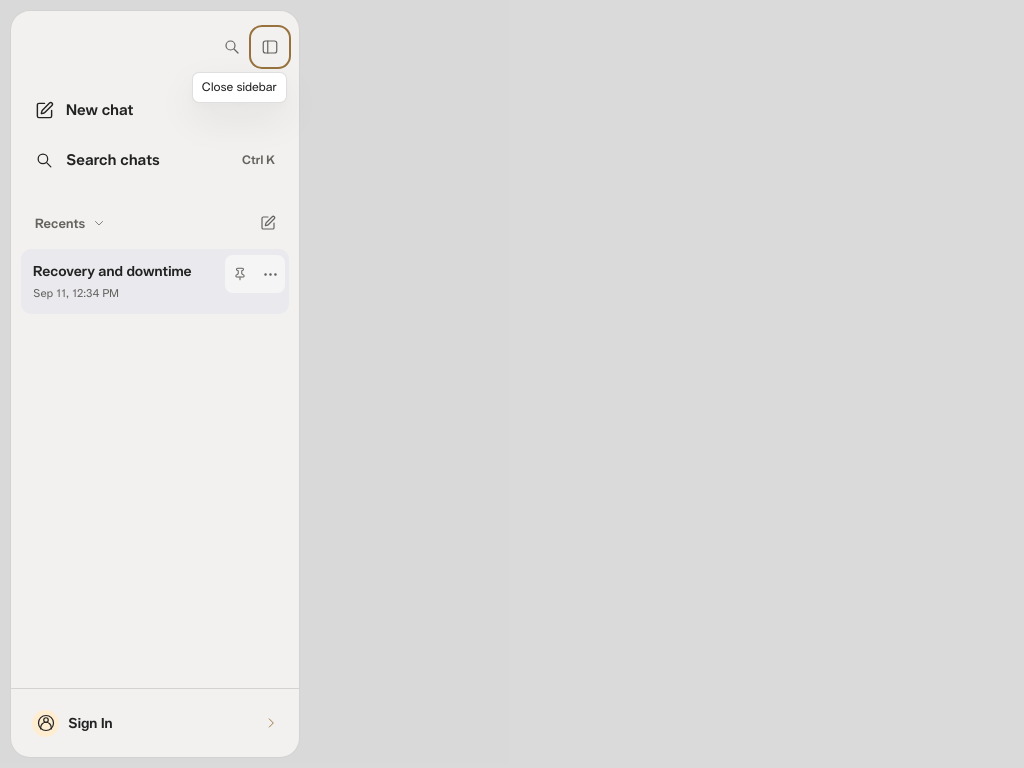
Test: Functional sidebar with HTTP doubles › does not share on menu/dialog opening; explicit creation and revocation are separate
Click the button named "Options for Recovery and downtime".
click(270, 274)  # box left=255, top=255, right=285, bottom=293
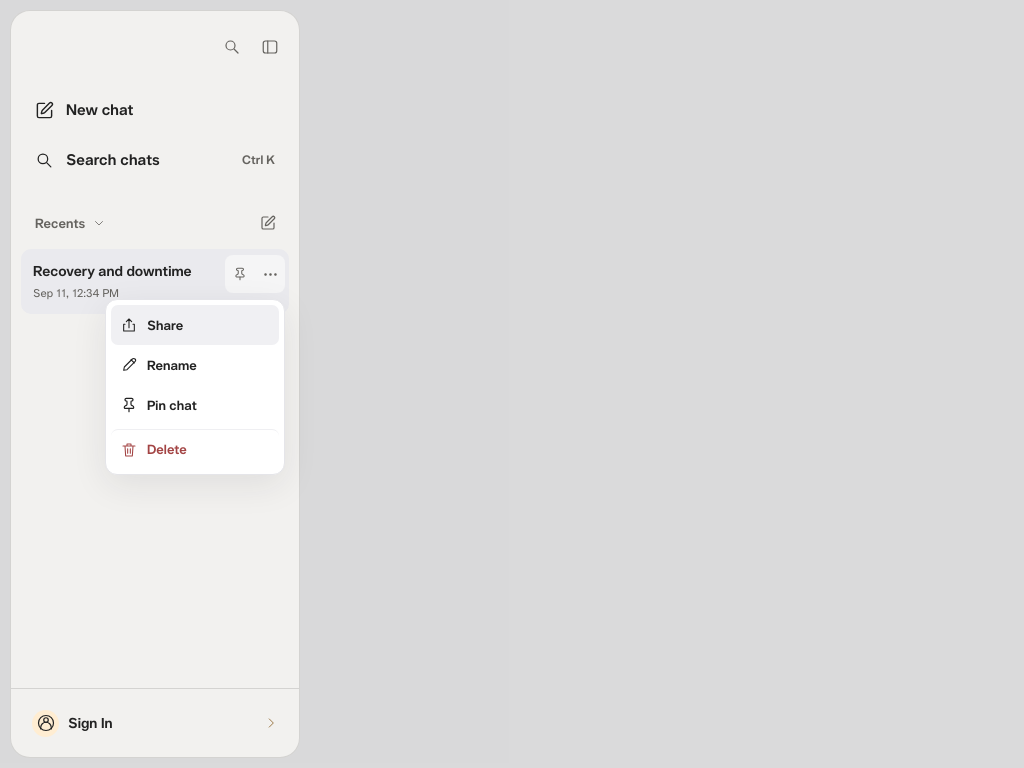
Click the menu item "Share".
click(195, 325)  # box left=111, top=305, right=279, bottom=345
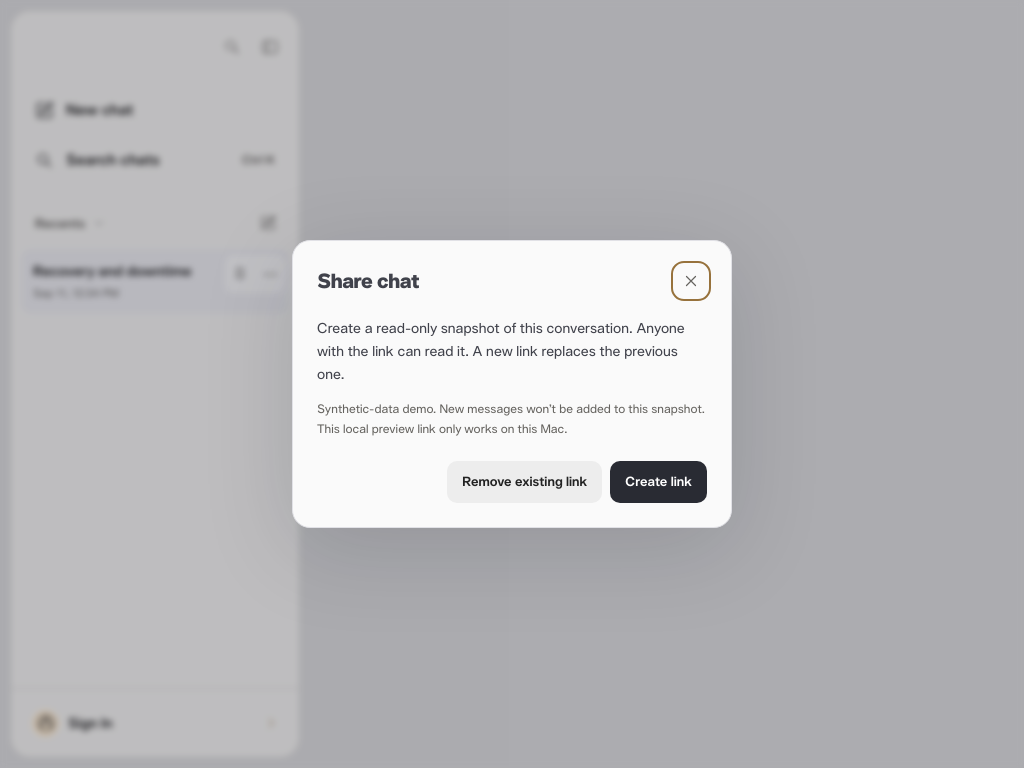
Result: the text "Anyone with the link" is shown at left=317, top=319, right=685, bottom=383
Click the button "Create link".
click(659, 482)  # box left=610, top=461, right=707, bottom=503
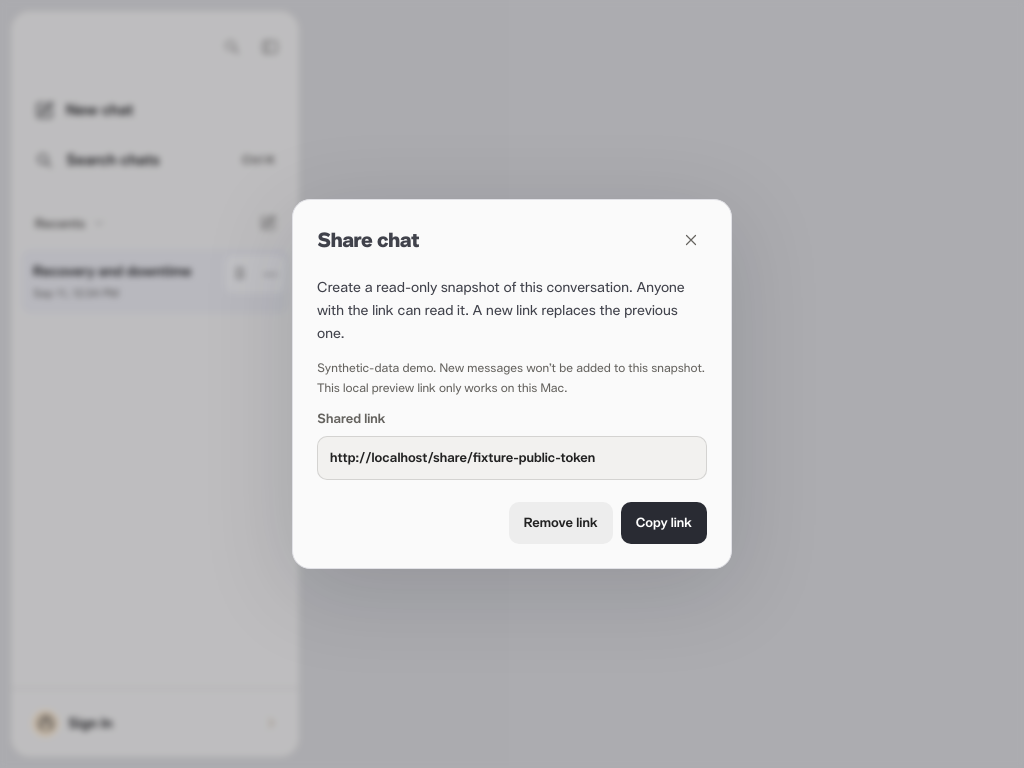
Click the button "Remove link".
click(561, 523)  # box left=509, top=502, right=613, bottom=544
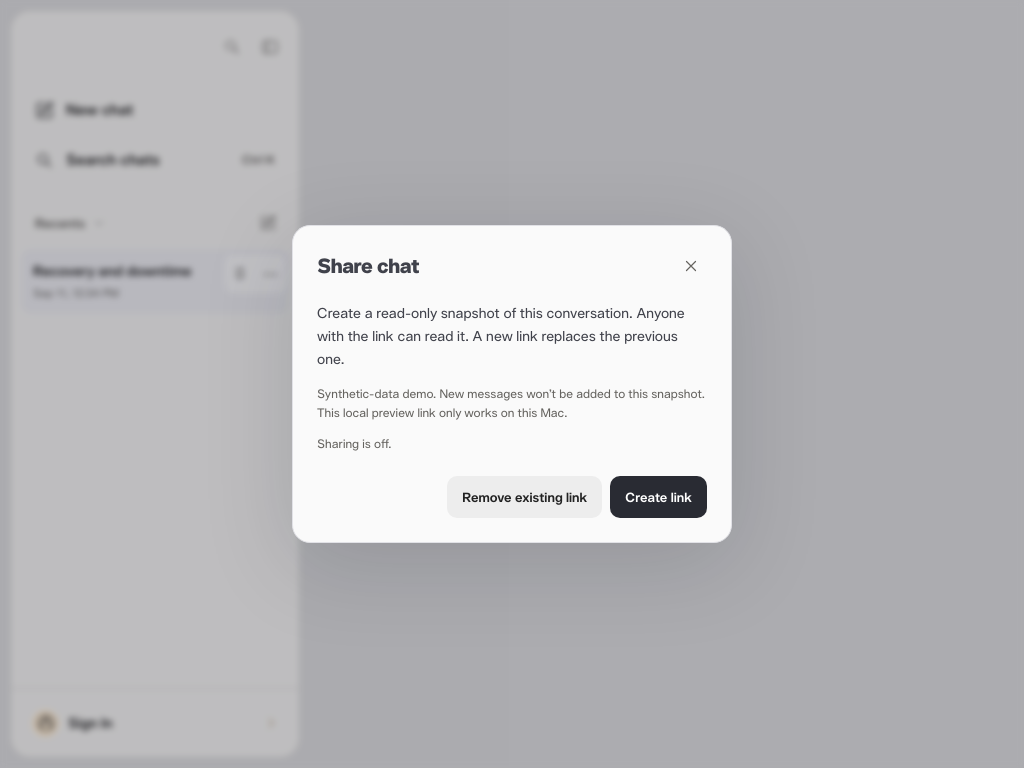
Result: the button "Create link" is shown at left=610, top=476, right=707, bottom=518
